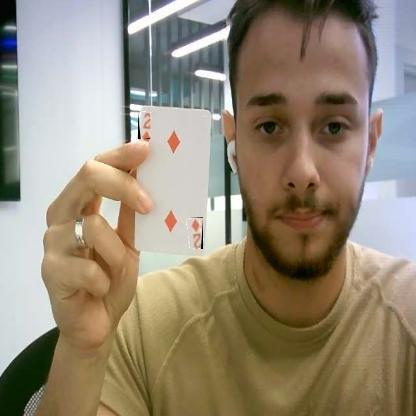2D: (188, 217, 203, 249), (138, 112, 150, 139)
